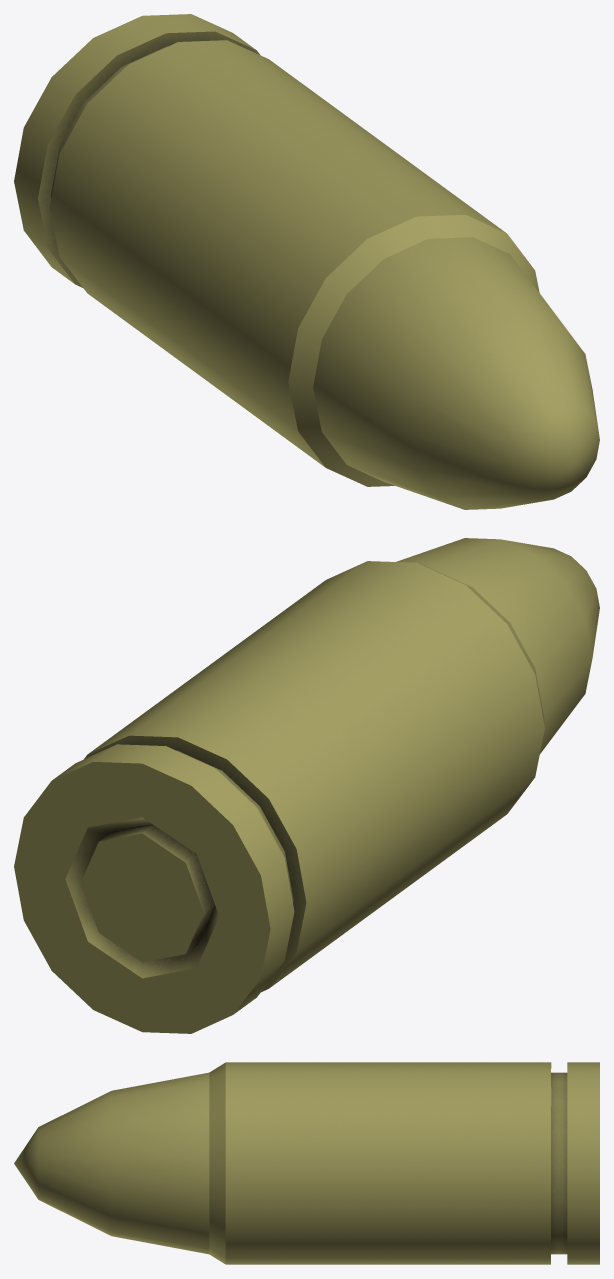
Rendered from smg_uzi_bullet.fbx.
3 views of the same model, one above another, from view 1: azimuth 30°, elevation 25°; view 2: azimuth 150°, elevation 25°; view 3: azimuth 270°, elevation 25° (orthographic). The views are drawn at different scales.
Parts seen in each view (by area): view 1: smg_uzi_bullet_shell, smg_uzi_bullet; view 2: smg_uzi_bullet_shell, smg_uzi_bullet; view 3: smg_uzi_bullet_shell, smg_uzi_bullet.
Boxes of the visible parts, x1,y1,x2,y2 form: smg_uzi_bullet_shell: (14, 14, 539, 486); smg_uzi_bullet: (313, 237, 599, 509); smg_uzi_bullet_shell: (14, 561, 544, 1033); smg_uzi_bullet: (396, 538, 599, 753); smg_uzi_bullet_shell: (209, 1062, 599, 1264); smg_uzi_bullet: (14, 1072, 209, 1254).
Size of the model in its own units: 1.55 by 1.55 by 4.5.
